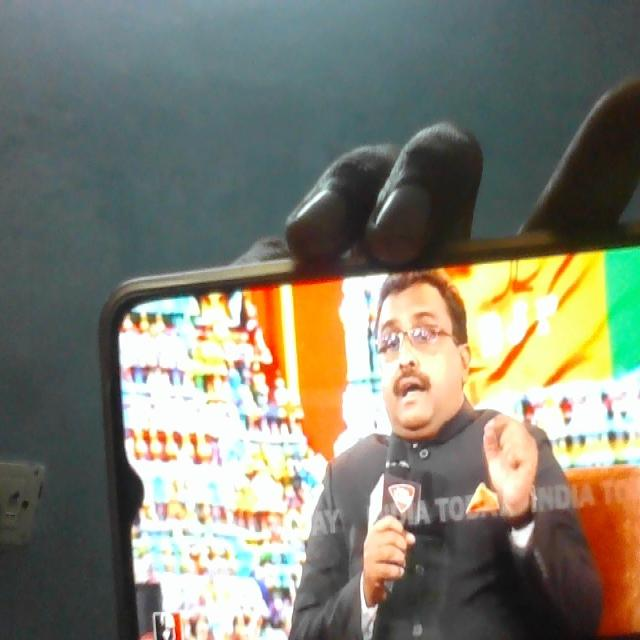fake: (367, 232, 477, 440)
